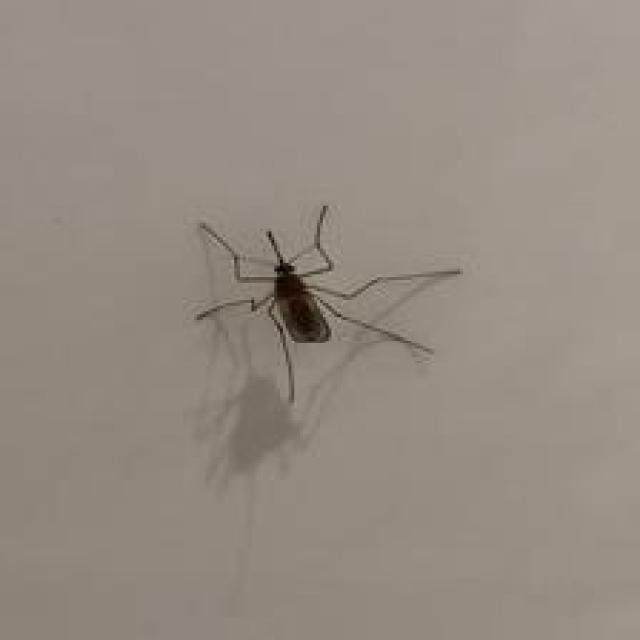Culex: (193, 203, 461, 403)
